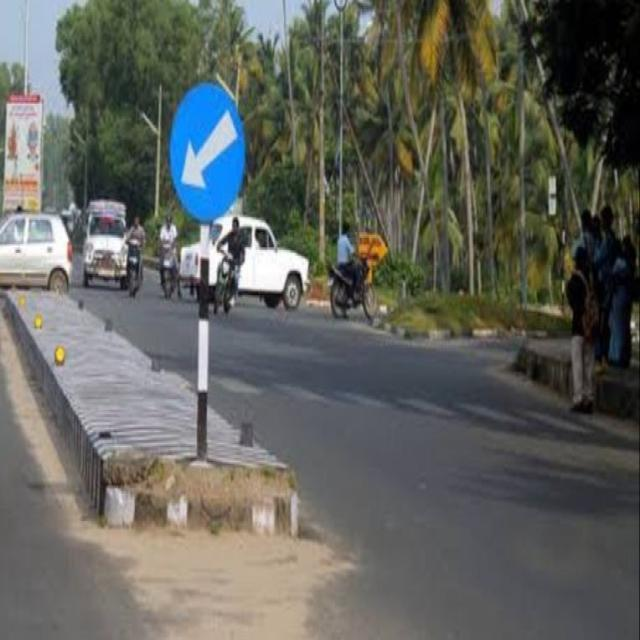compulsary keep left: (167, 77, 257, 225)
